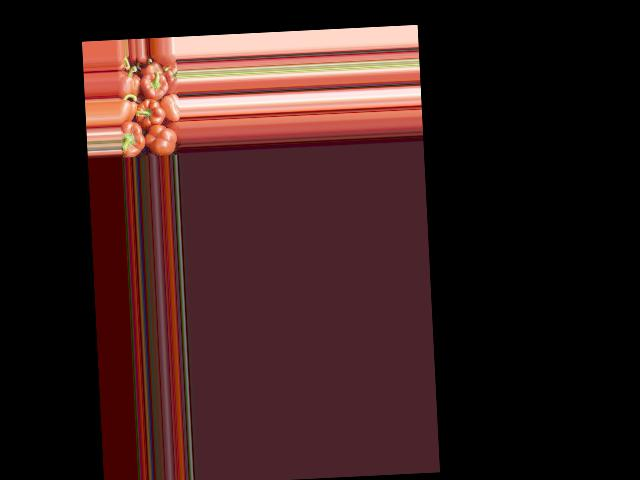bell_pepper: (162, 94, 179, 123)
